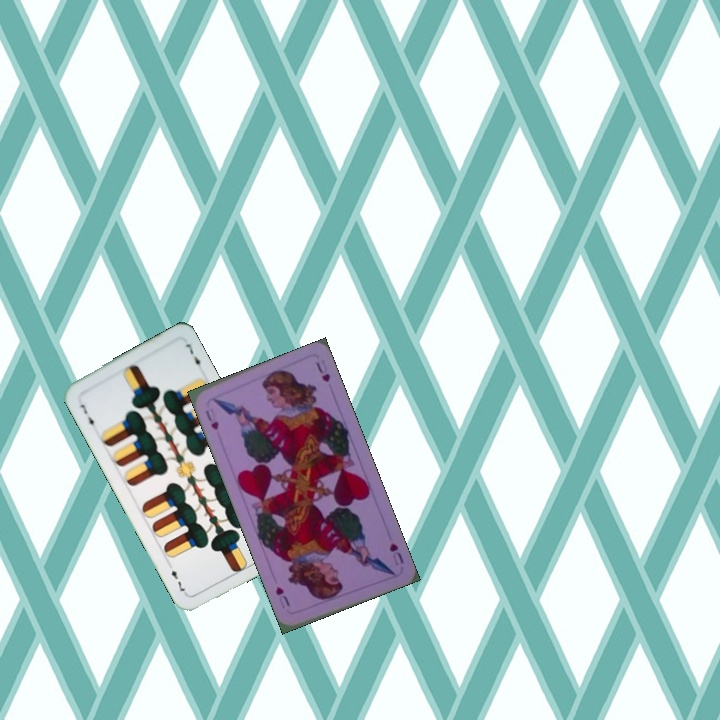E7: (76, 400, 97, 432)
HU: (385, 539, 406, 568), (201, 404, 221, 433)
